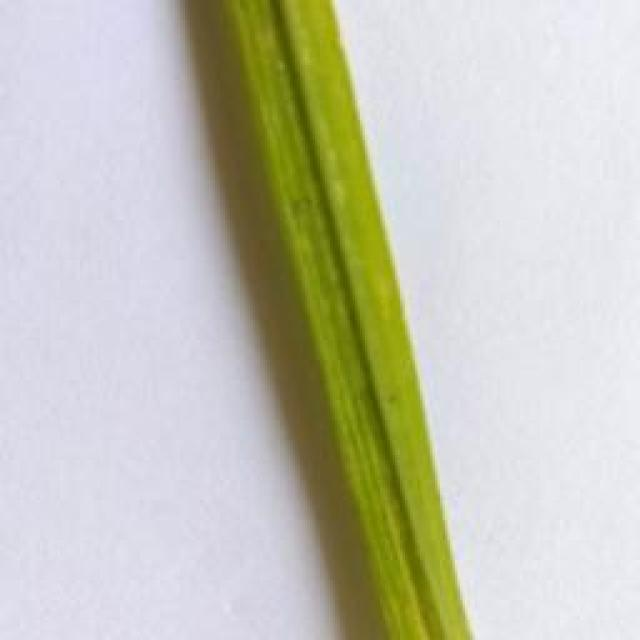Healthy-Plant: (224, 0, 473, 636)
